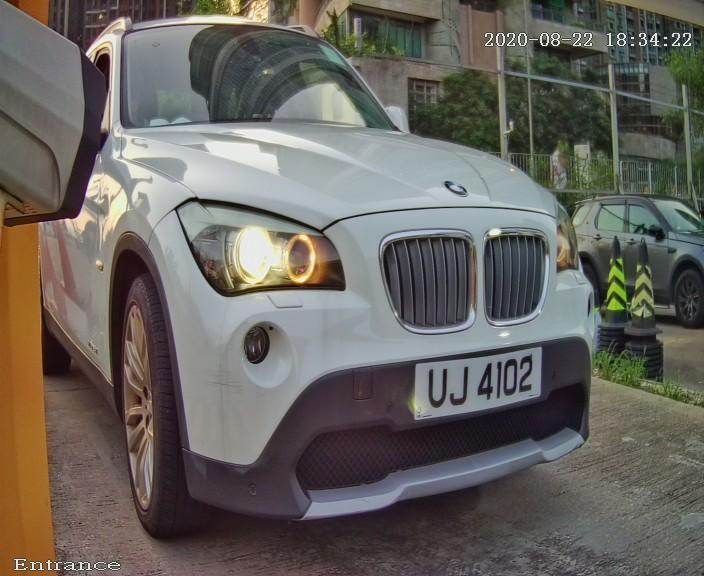Car: (26, 1, 654, 564)
License Plate: (403, 337, 554, 425)
